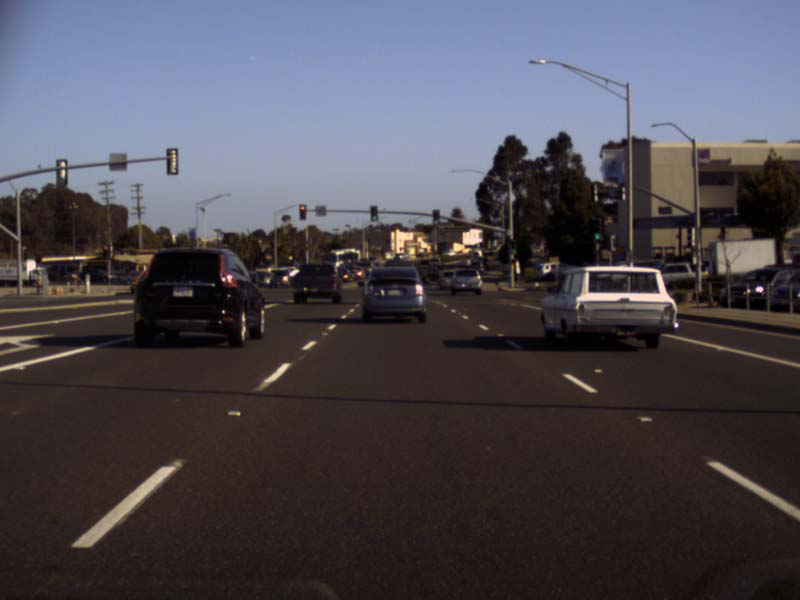Green: (592, 218, 602, 240), (370, 205, 377, 221), (432, 209, 439, 224), (510, 240, 517, 254)
Red: (298, 203, 307, 219)
